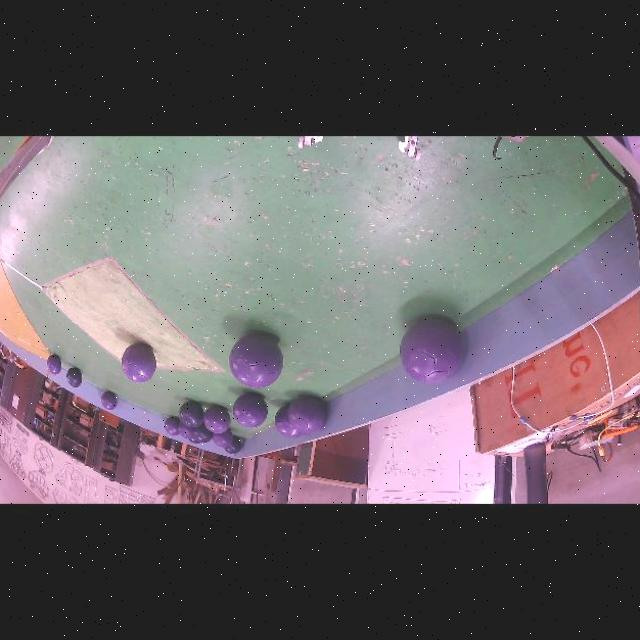B: (180, 400, 204, 427), (194, 424, 213, 442), (66, 367, 83, 387), (224, 436, 242, 454), (190, 438, 200, 444)
P: (399, 317, 462, 384), (230, 333, 283, 387), (288, 395, 325, 433), (121, 343, 157, 382), (233, 393, 268, 428), (274, 404, 302, 439), (204, 405, 231, 433), (213, 428, 233, 448), (47, 354, 62, 375), (164, 417, 180, 436), (102, 391, 117, 410), (178, 422, 194, 439)
